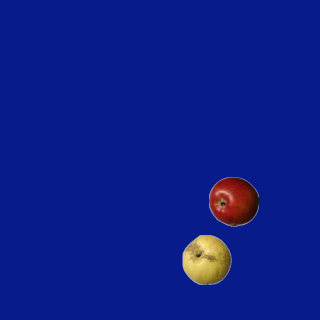Apple Braeburn: (208, 176, 258, 226)
Apple Golden 1: (181, 234, 231, 284)
